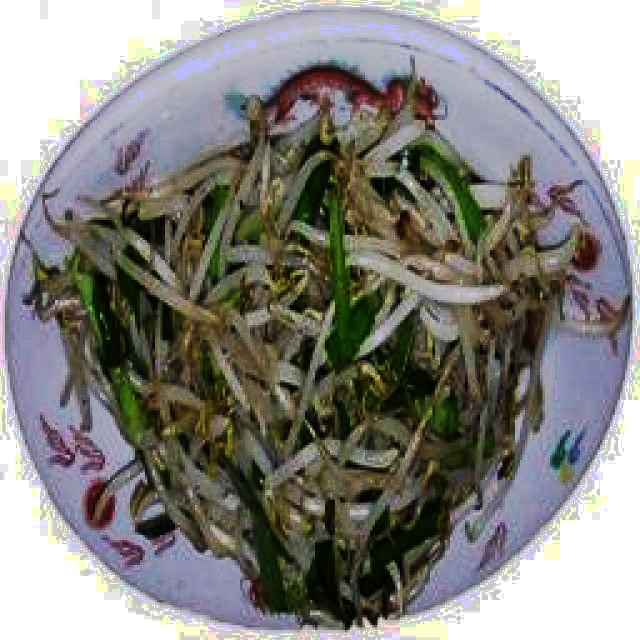mung_bean_sprouts: (74, 129, 559, 620)
